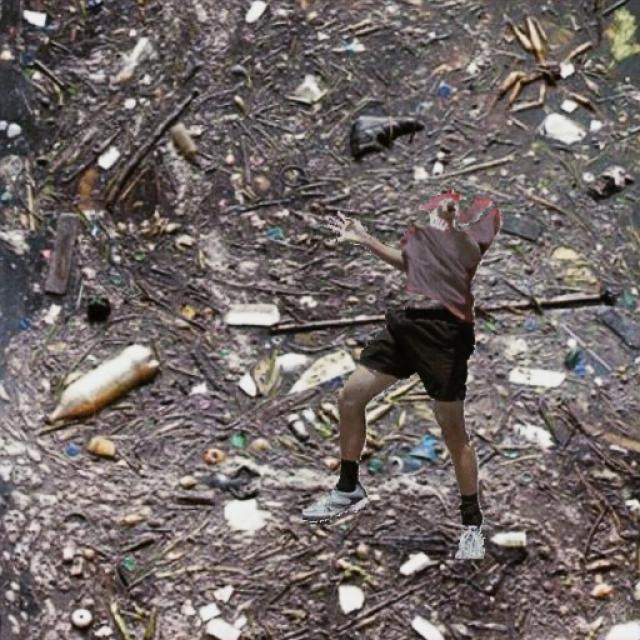Person in Rubble: (303, 188, 502, 558)
